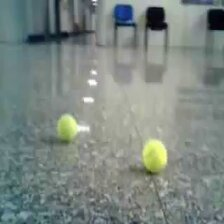tennis: (142, 139, 168, 172), (56, 115, 79, 142)
